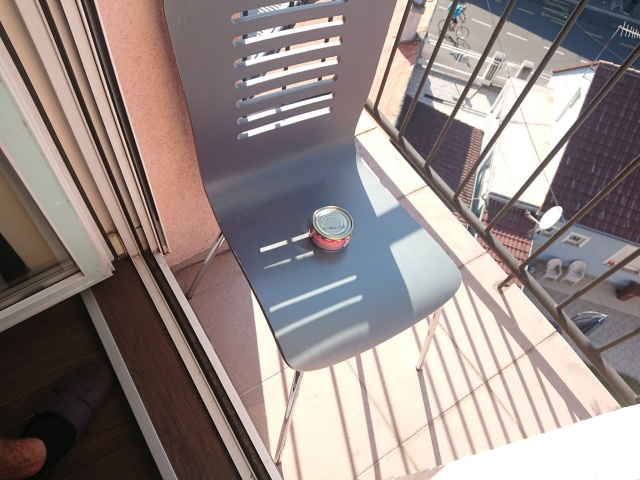Giana Tuna Salad Mexico 185g: (308, 202, 355, 256)
